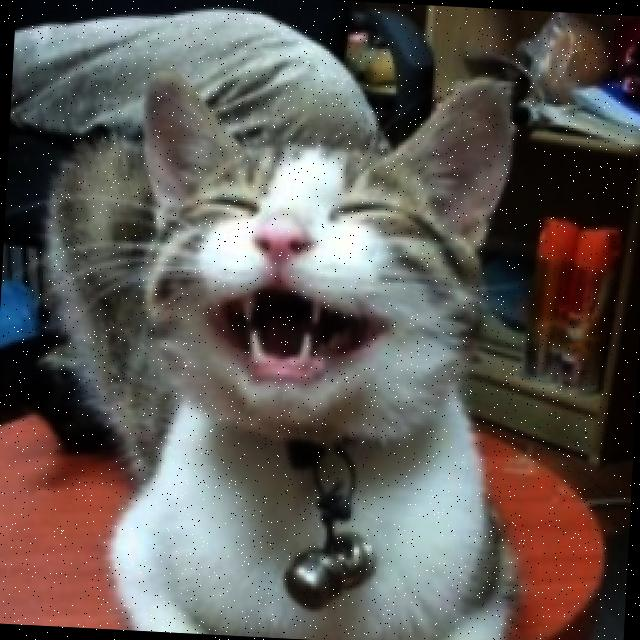Happy: (162, 156, 451, 426)
